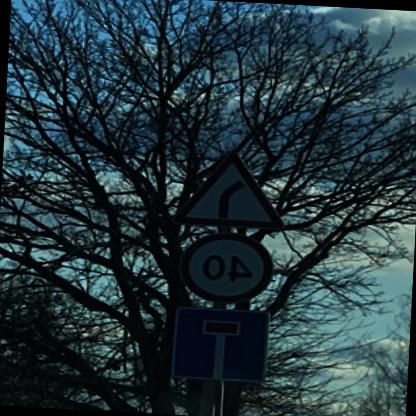speedlimit: (181, 228, 278, 304)
